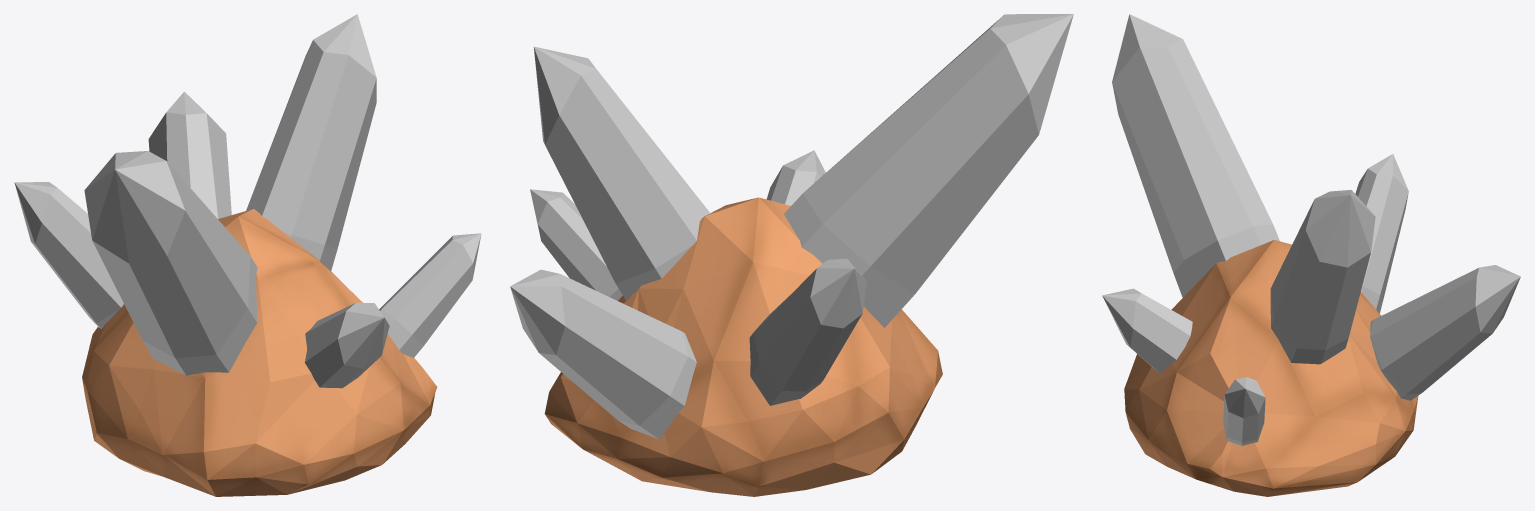
File: emas155.fbx
3 renders of one model, left to right at view 1: azimuth 30°, elevation 25°; view 2: azimuth 150°, elevation 25°; view 3: azimuth 270°, elevation 25°, orthographic. The views are drawn at different scales.
Visible parts, largest first — view 1: Cube.104; view 2: Cube.104; view 3: Cube.104.
Part boxes in pixels (x1,y1,x2,y2): Cube.104: [14, 14, 481, 496]; Cube.104: [510, 14, 1073, 496]; Cube.104: [1102, 14, 1520, 496].
Bounding box in the file's own units: 894 × 778 × 858.
